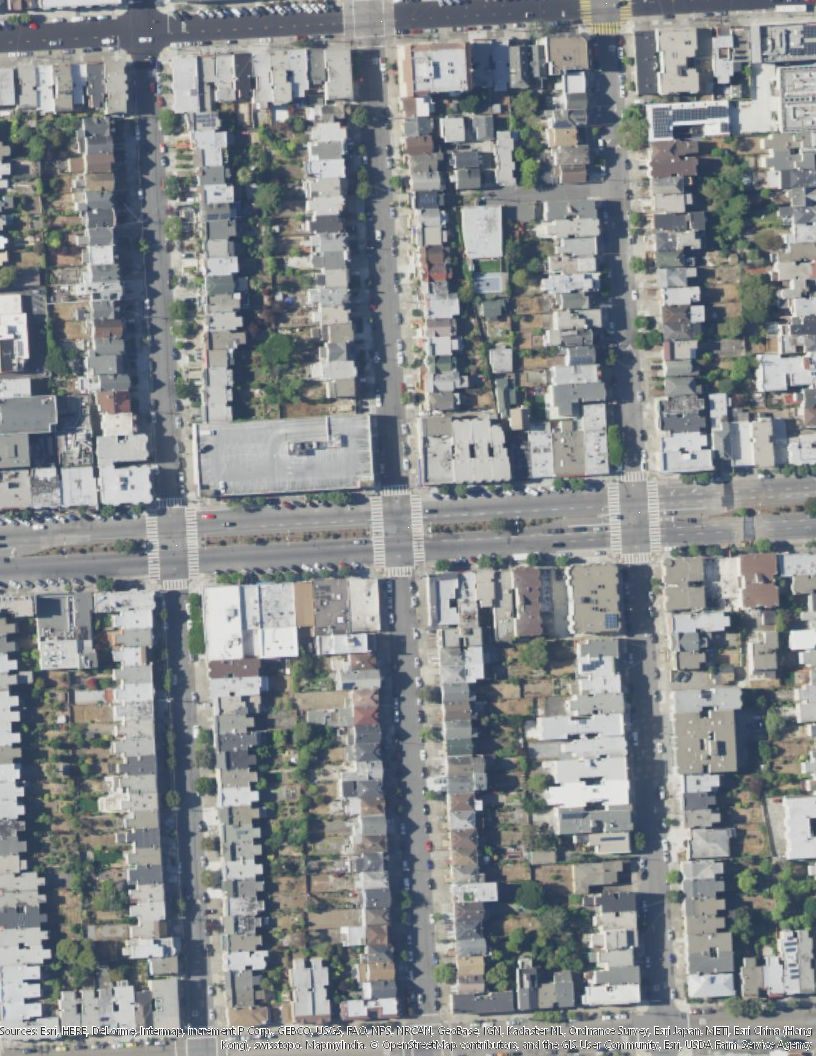zebracross: (606, 481, 624, 552), (370, 494, 387, 566), (144, 509, 161, 579), (409, 495, 426, 564), (647, 483, 662, 550), (184, 508, 199, 574), (380, 482, 411, 497), (617, 470, 648, 483), (592, 22, 621, 35), (157, 496, 187, 508), (160, 579, 190, 591), (623, 552, 652, 564), (619, 1, 634, 24), (385, 565, 414, 576), (580, 1, 592, 26)
